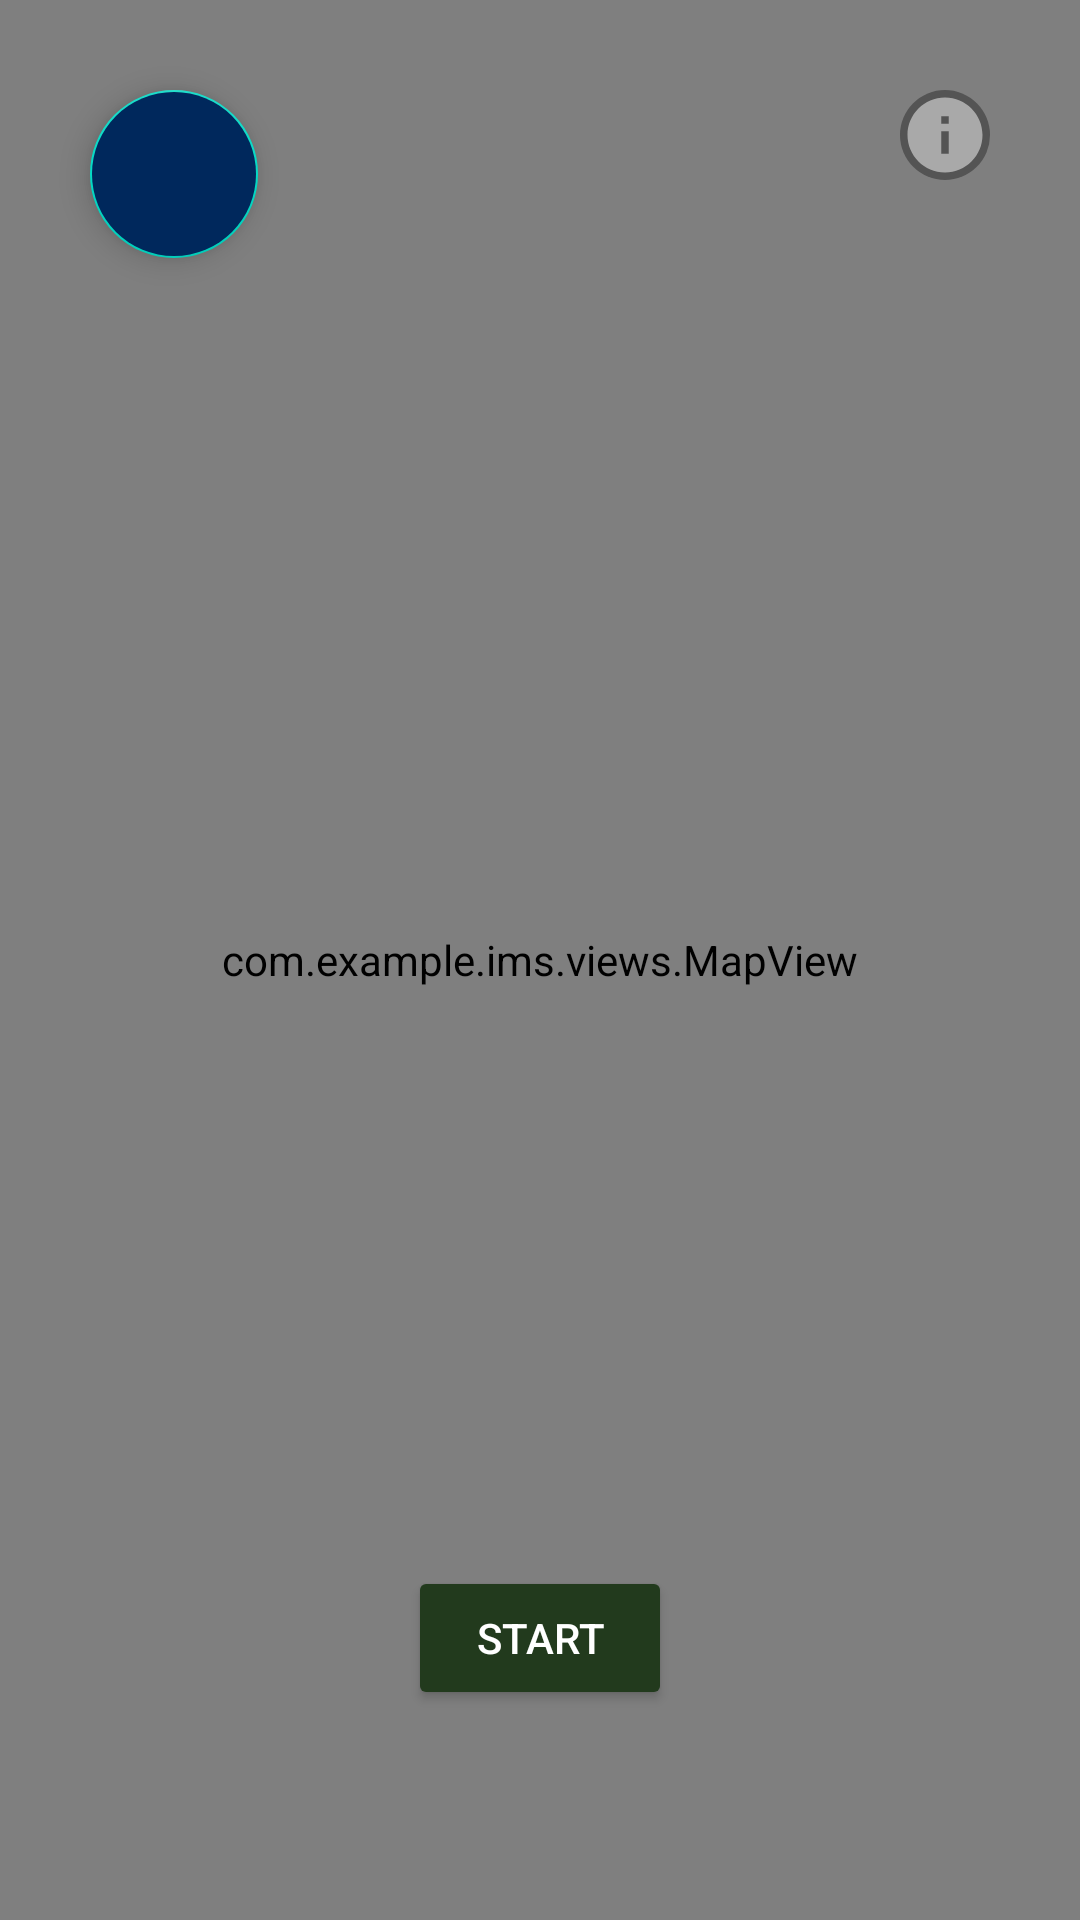

Locate icon controls on the screen. Image size 1080x1920, boxes as box(x1, y1, x2, y2).
info: box(900, 90, 990, 180)
